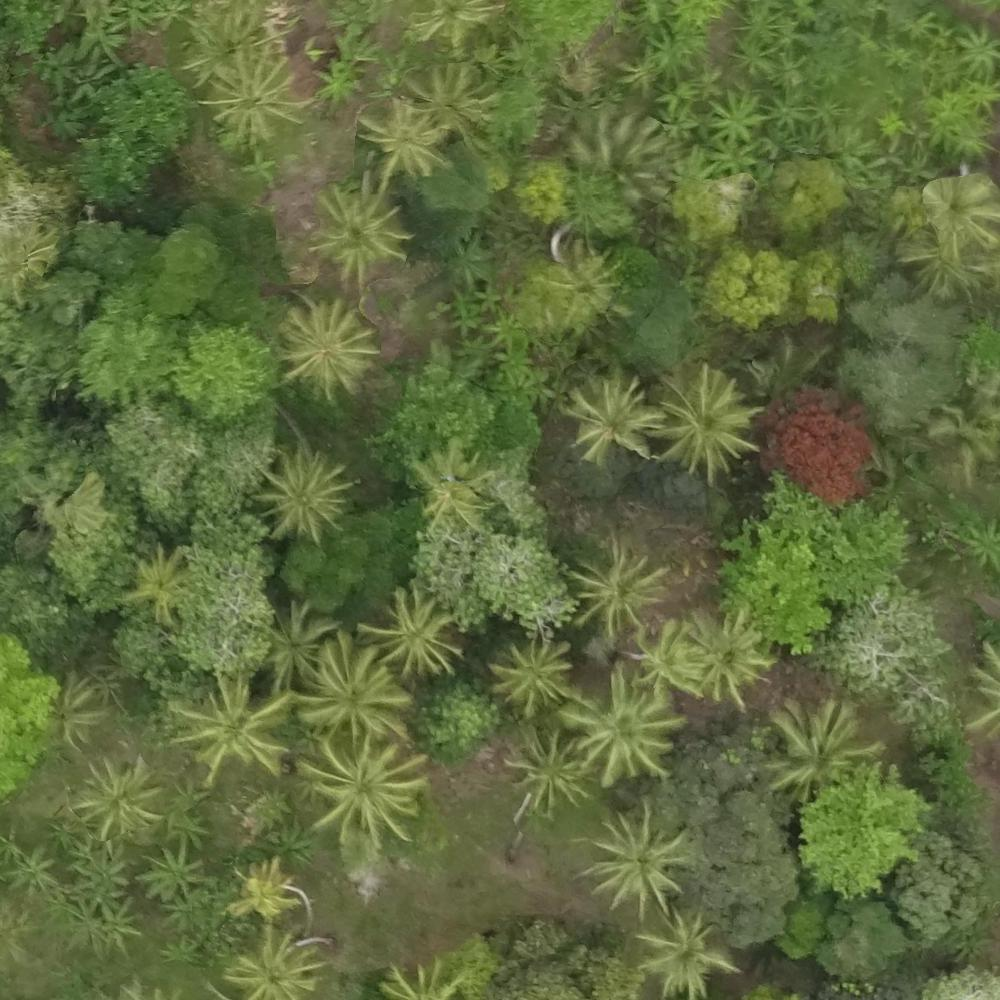Palm: (565, 666, 681, 779), (295, 639, 414, 743), (586, 802, 694, 916), (309, 739, 426, 844), (175, 672, 286, 778), (764, 697, 879, 794), (659, 366, 757, 478), (565, 106, 671, 207), (279, 296, 378, 396), (568, 543, 667, 633), (251, 448, 349, 536), (317, 184, 409, 276), (685, 608, 775, 702), (204, 50, 301, 136), (366, 590, 460, 675), (571, 373, 662, 460), (358, 101, 452, 185), (633, 915, 729, 996), (512, 728, 599, 814), (183, 1, 278, 79), (403, 54, 492, 135), (72, 760, 160, 840), (931, 382, 1000, 483), (257, 600, 338, 684), (486, 633, 574, 709), (412, 446, 495, 526), (920, 174, 1000, 251), (226, 934, 317, 1000), (127, 548, 201, 625), (626, 626, 705, 696), (42, 681, 112, 754), (229, 861, 296, 921), (411, 1, 498, 47)
